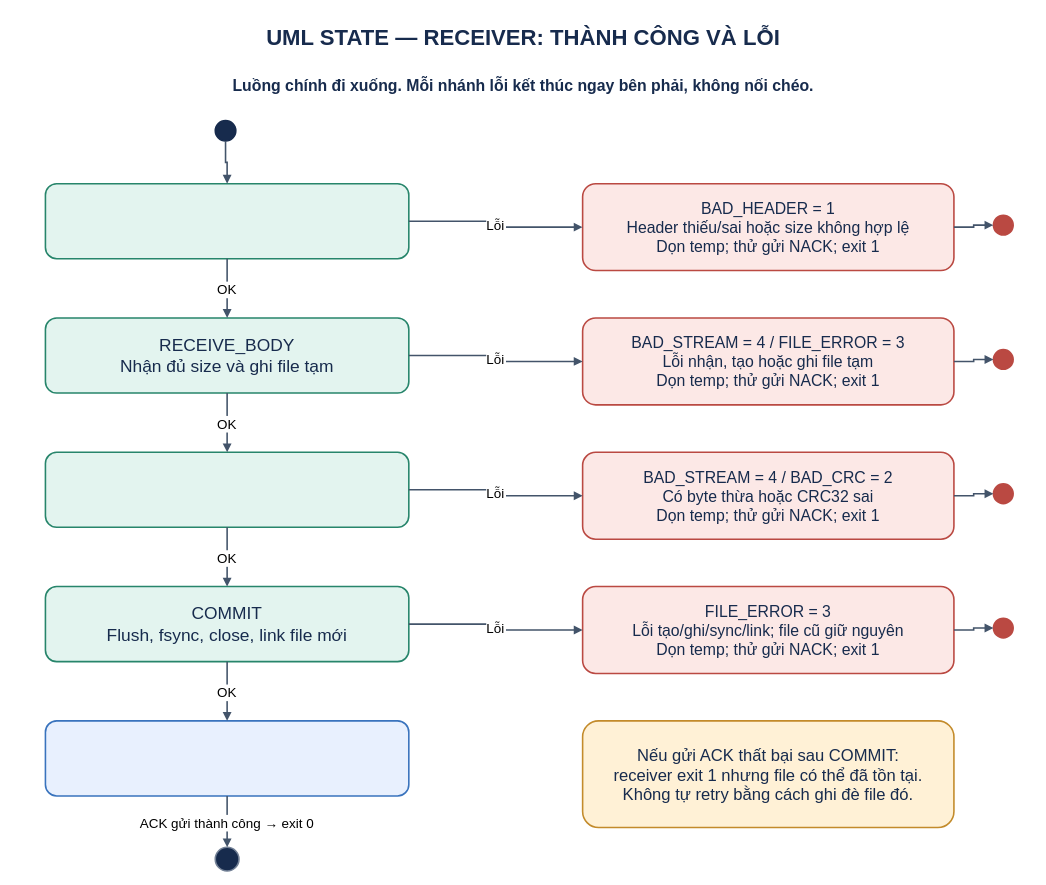
This 1046x885 diagram has some shape labels left out. The centre of each missing label's shape, as x and y in pixels:
"READ_HEADER Đọc đủ 12 byte, validate magic/size" belongs at point (226, 220).
"SEND_ACK File đã công bố → gửi status OK" belongs at point (226, 758).
"VERIFY Phải có EOF; CRC32 phải khớp" belongs at point (226, 489).
